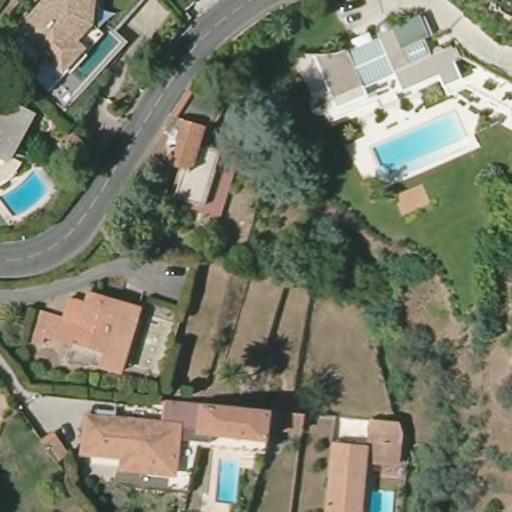pool: (371, 106, 471, 177), (1, 172, 51, 220), (78, 29, 119, 79), (213, 456, 244, 502), (365, 485, 398, 511)
